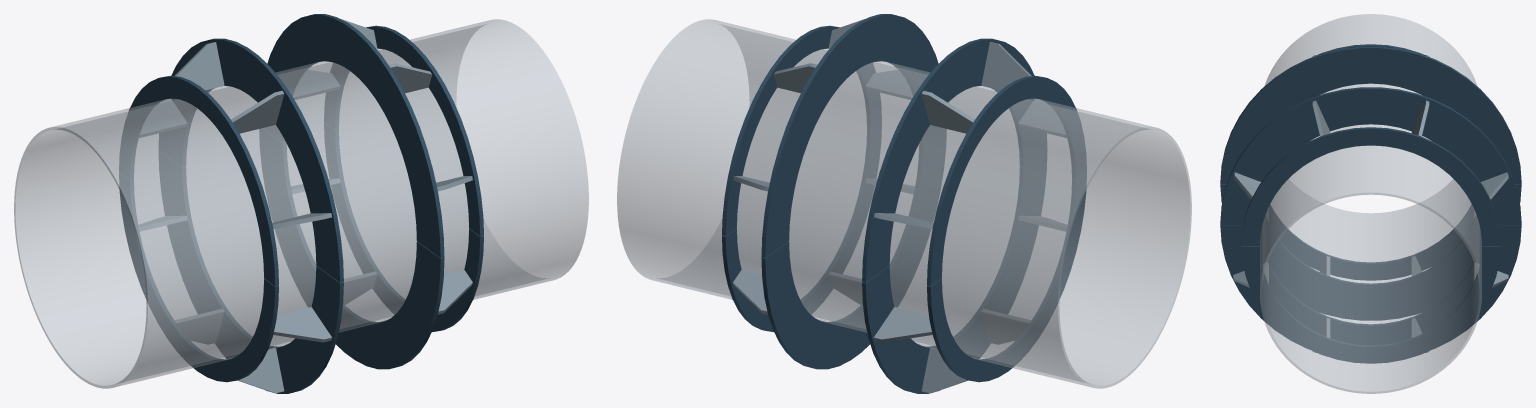
Rendered from TS-667.00.00-03-opora-dn720-D976.glb.
3 renders of one model, left to right at view 1: azimuth 30°, elevation 25°; view 2: azimuth 150°, elevation 25°; view 3: azimuth 270°, elevation 25°, orthographic. The views are drawn at different scales.
Parts seen in each view (by area): view 1: truba, polukoltso_1, polukoltso_13, polukoltso_19, polukoltso_7, polukoltso_usil_12, polukoltso_usil_24, polukoltso_usil_6, polukoltso_usil_18, rebro_20, rebro_9, rebro_10 (+7 smaller); view 2: truba, polukoltso_1, polukoltso_13, polukoltso_19, polukoltso_7, polukoltso_usil_12, polukoltso_usil_24, polukoltso_usil_6, polukoltso_usil_18, rebro_23, rebro_10, rebro_9 (+7 smaller); view 3: truba, polukoltso_1, polukoltso_7, polukoltso_19, polukoltso_13, polukoltso_usil_6, polukoltso_usil_18, polukoltso_usil_24, rebro_2, rebro_5, rebro_3, rebro_4.
Part boxes in pixels (<box>): truba: <box>14,19,588,388</box>; polukoltso_1: <box>263,14,444,258</box>; polukoltso_13: <box>259,128,444,369</box>; polukoltso_19: <box>159,151,343,393</box>; polukoltso_7: <box>158,38,343,282</box>; polukoltso_usil_12: <box>119,75,278,286</box>; polukoltso_usil_24: <box>119,173,278,382</box>; polukoltso_usil_6: <box>324,25,483,236</box>; polukoltso_usil_18: <box>324,123,483,331</box>; rebro_20: <box>273,307,331,342</box>; rebro_9: <box>174,42,224,90</box>; rebro_10: <box>231,90,284,133</box>; truba: <box>617,19,1191,388</box>; polukoltso_1: <box>761,14,942,258</box>; polukoltso_13: <box>761,128,946,369</box>; polukoltso_19: <box>862,151,1046,393</box>; polukoltso_7: <box>862,38,1047,282</box>; polukoltso_usil_12: <box>927,75,1086,286</box>; polukoltso_usil_24: <box>927,173,1086,382</box>; polukoltso_usil_6: <box>722,25,881,236</box>; polukoltso_usil_18: <box>722,123,881,331</box>; rebro_23: <box>874,307,932,342</box>; rebro_10: <box>981,42,1031,90</box>; rebro_9: <box>921,90,974,133</box>; truba: <box>1260,14,1481,393</box>; polukoltso_1: <box>1220,87,1521,224</box>; polukoltso_7: <box>1220,46,1521,183</box>; polukoltso_19: <box>1220,184,1521,320</box>; polukoltso_13: <box>1220,225,1521,348</box>; polukoltso_usil_6: <box>1241,127,1500,245</box>; polukoltso_usil_18: <box>1241,246,1500,363</box>; polukoltso_usil_24: <box>1269,205,1472,280</box>; rebro_2: <box>1480,172,1508,199</box>; rebro_5: <box>1233,172,1261,199</box>; rebro_3: <box>1411,100,1429,136</box>; rebro_4: <box>1312,100,1330,136</box>.
Size of the model in its own units: 1368 by 974 by 976.
